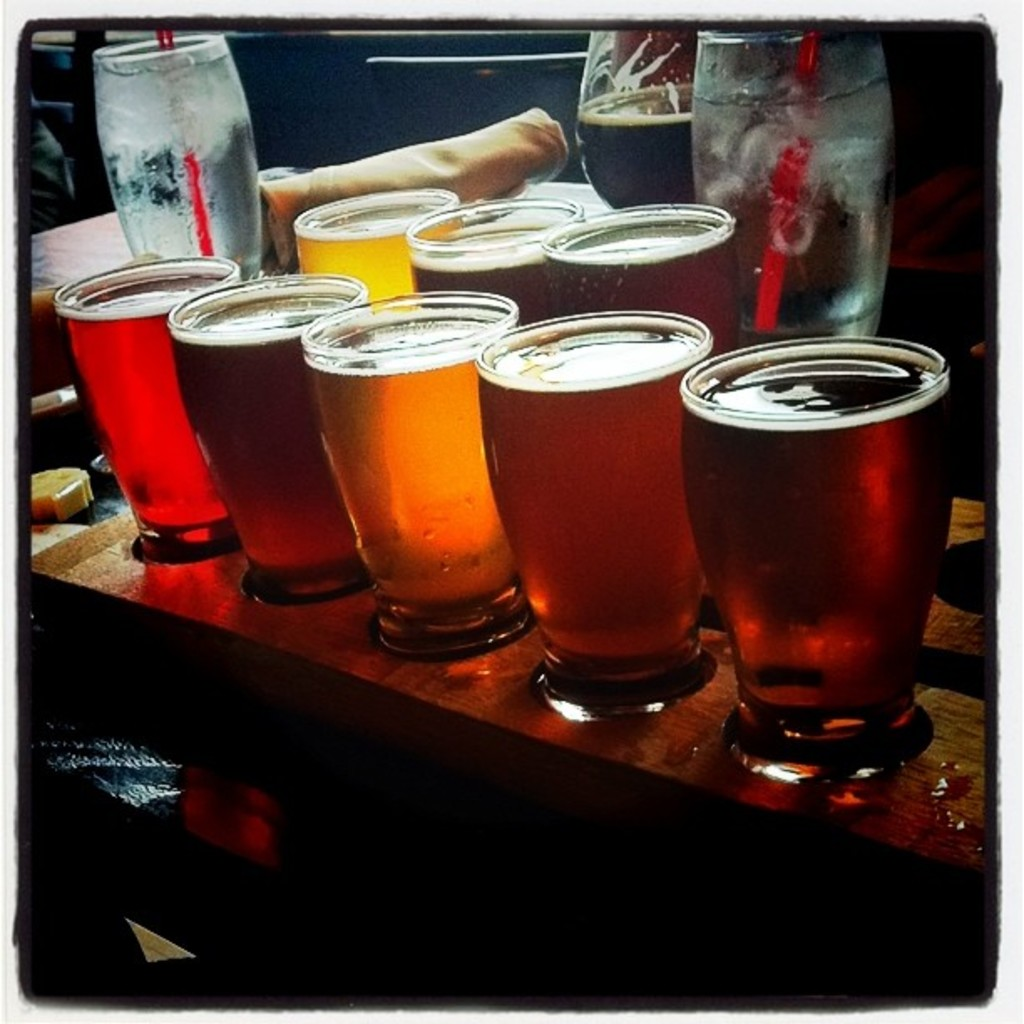Beer: (56, 180, 958, 742)
